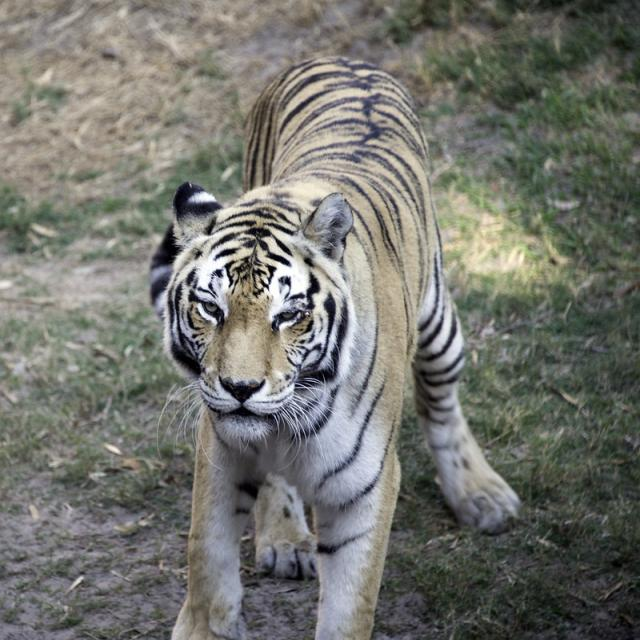Tiger: (128, 44, 526, 632)
